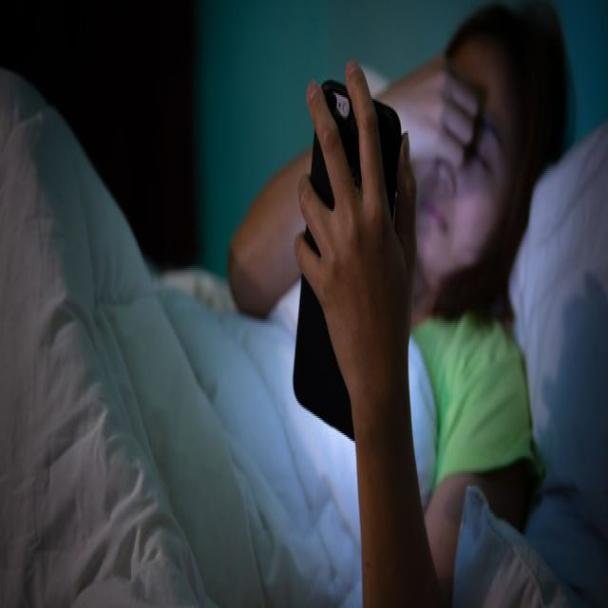Handphone: (298, 83, 402, 440)
